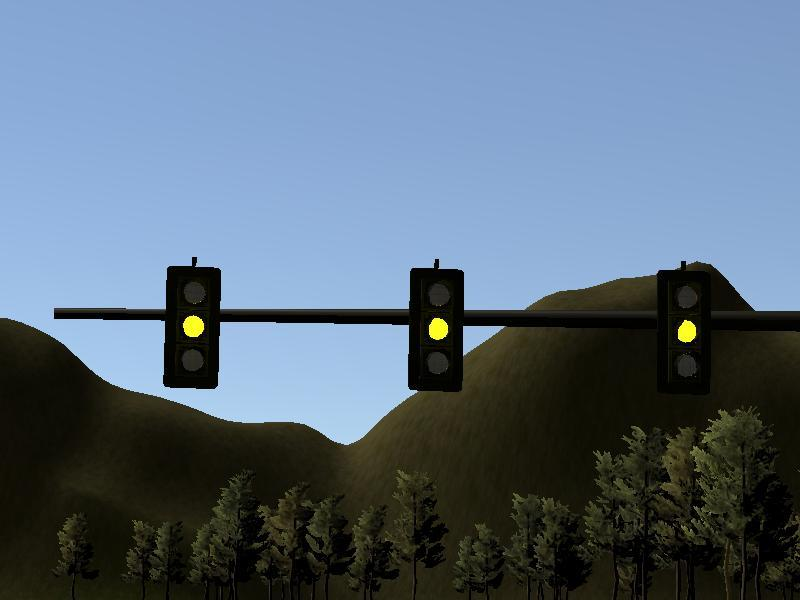Yellow: (165, 266, 220, 389), (409, 268, 463, 391), (657, 271, 711, 394)
